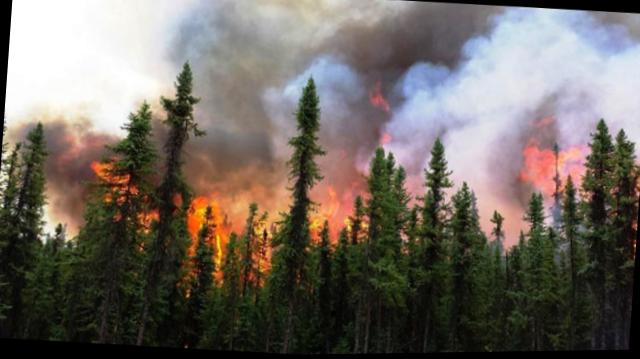fire: (72, 11, 639, 342)
